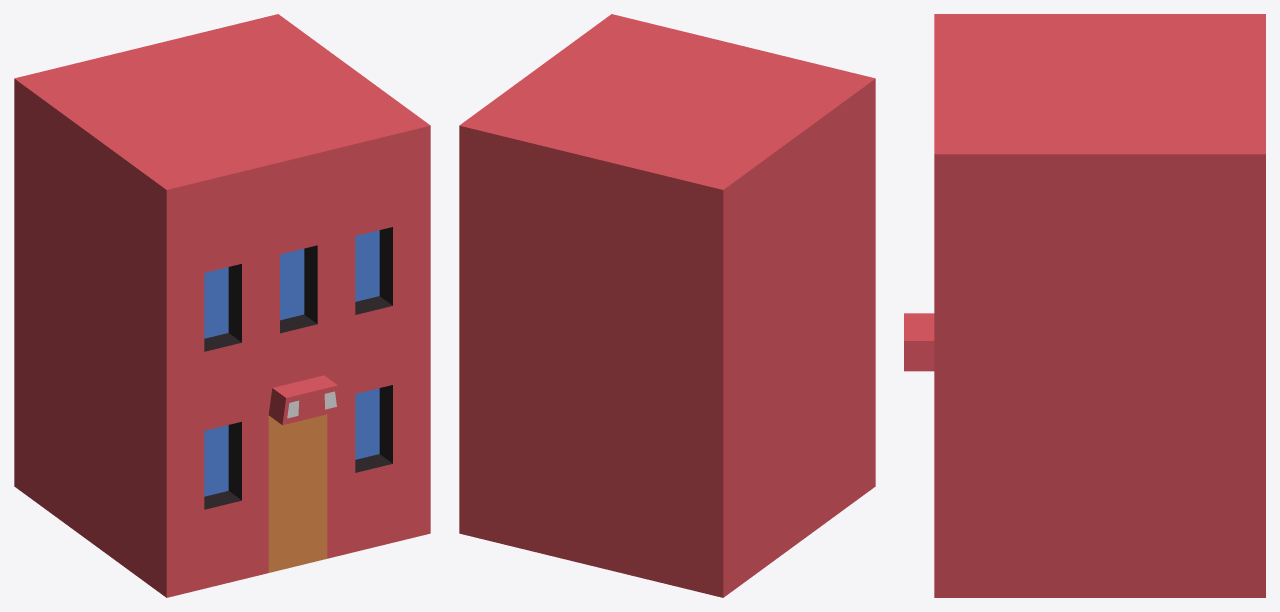
File: house2.fbx
3 views of the same model, side by side, from view 1: azimuth 30°, elevation 25°; view 2: azimuth 150°, elevation 25°; view 3: azimuth 270°, elevation 25° (orthographic). The views are drawn at different scales.
Visible parts, largest first — view 1: Cube; view 2: Cube; view 3: Cube.
Part boxes in pixels (bbox=[...]): Cube: bbox=[14, 14, 430, 597]; Cube: bbox=[459, 14, 875, 597]; Cube: bbox=[904, 14, 1265, 597].
Bounding box in the file's own units: 1000 × 1476 × 1091.
